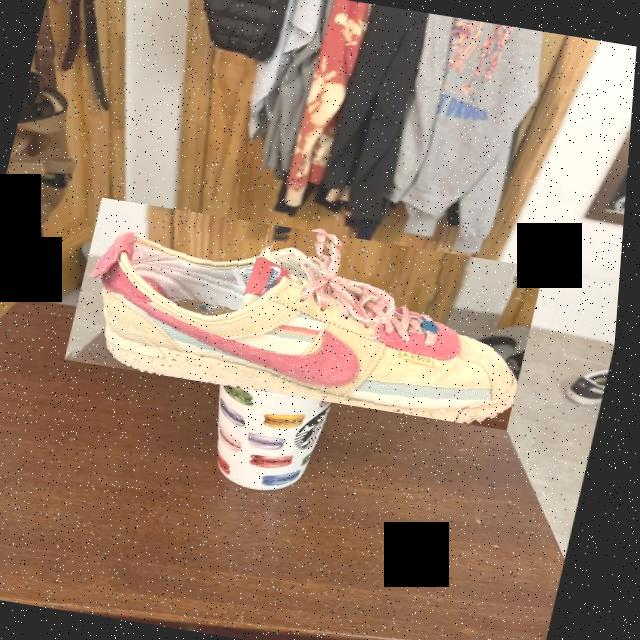shoe: (66, 198, 552, 430)
